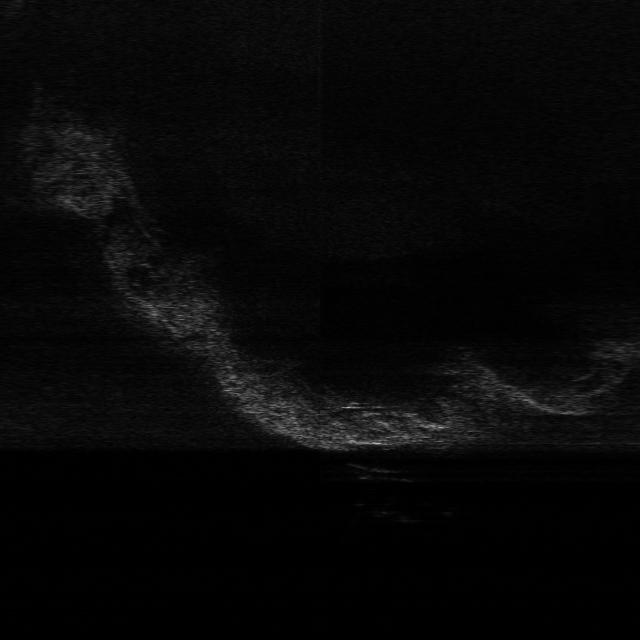plane: (341, 460, 417, 484)
